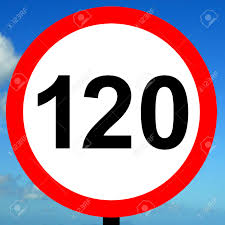Speed_limit_120km: (5, 6, 218, 217)
